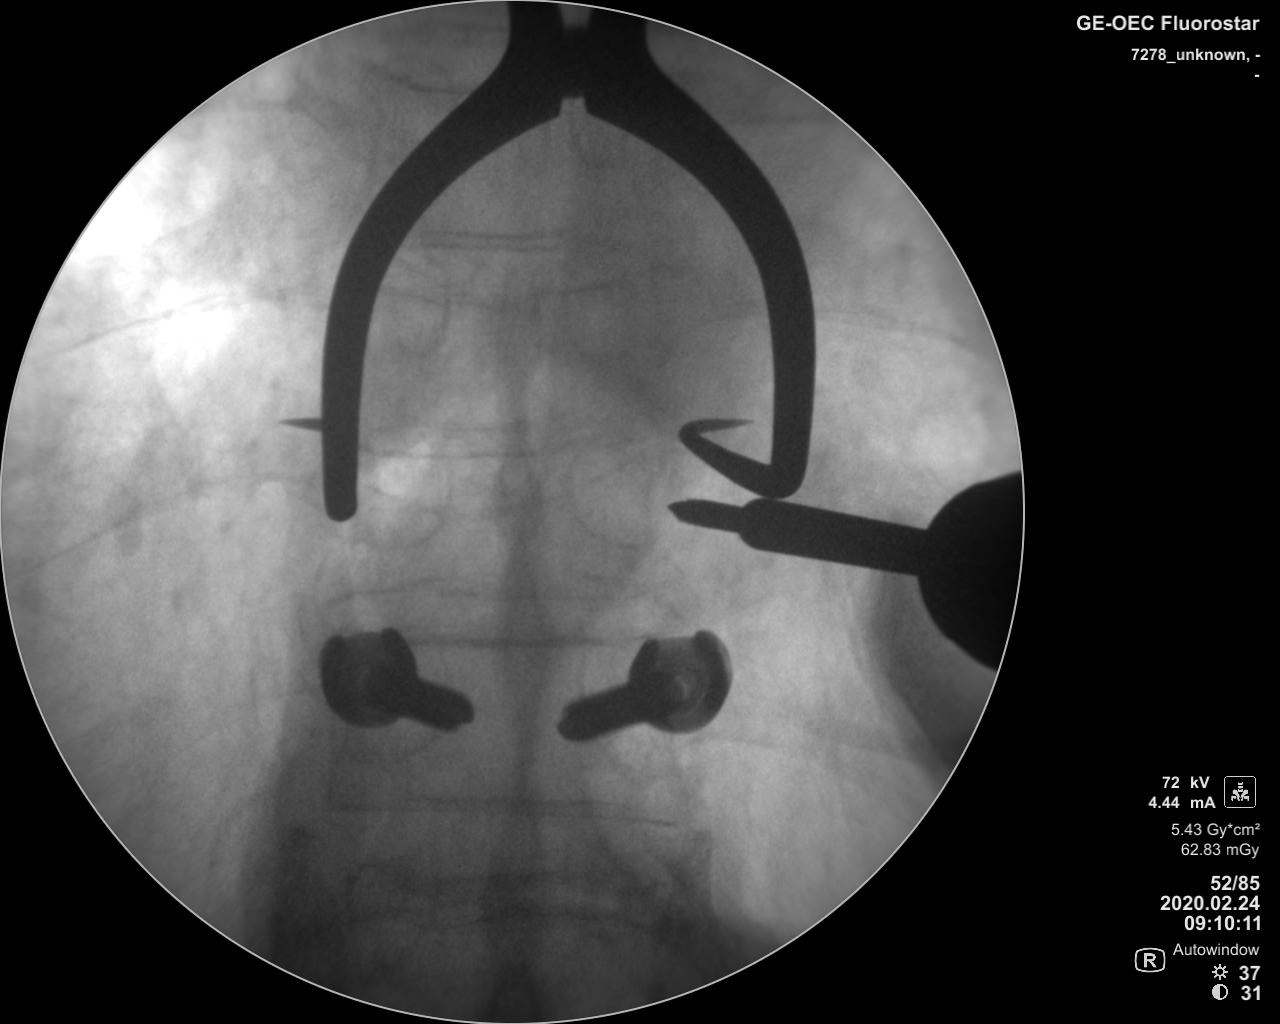eyes: (356, 427, 448, 549), (572, 440, 671, 551)
line: (338, 790, 669, 830), (338, 574, 659, 602), (364, 439, 616, 471), (410, 223, 615, 256), (389, 871, 642, 895), (412, 630, 635, 653)
nose: (471, 801, 546, 960), (485, 580, 554, 726), (480, 264, 548, 403), (484, 423, 546, 564)
